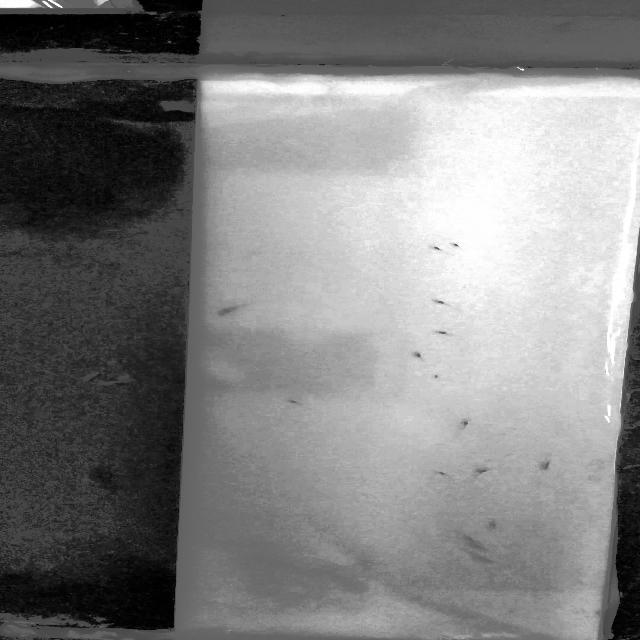shrimp: (202, 303, 248, 315), (532, 458, 566, 474), (422, 295, 458, 310), (424, 466, 456, 482), (449, 416, 479, 432), (453, 529, 485, 544), (480, 517, 510, 532), (279, 396, 313, 409), (467, 464, 495, 478), (428, 326, 458, 339), (428, 244, 449, 254), (447, 240, 468, 250), (412, 352, 432, 362), (426, 374, 447, 382), (468, 544, 494, 550)
